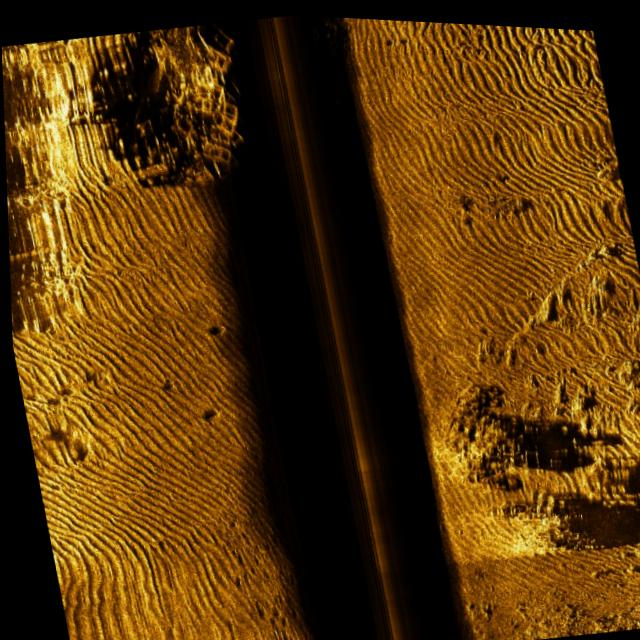artificial reef: (87, 19, 258, 207)
